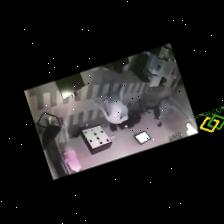person: (94, 87, 127, 130), (57, 120, 80, 171), (137, 99, 161, 125)
